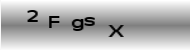2: (25, 8, 38, 22)
F: (47, 14, 60, 28)
X: (108, 24, 124, 38)
g: (71, 18, 83, 31)
s: (83, 16, 95, 26)
